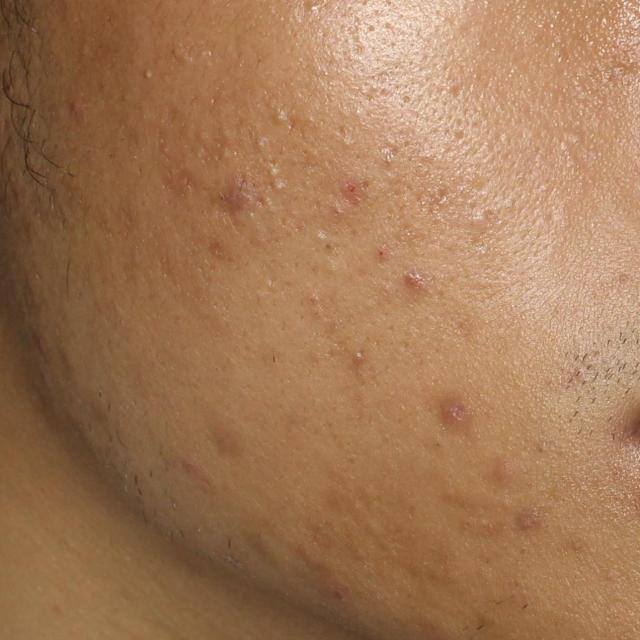nodules: (214, 169, 257, 225)
